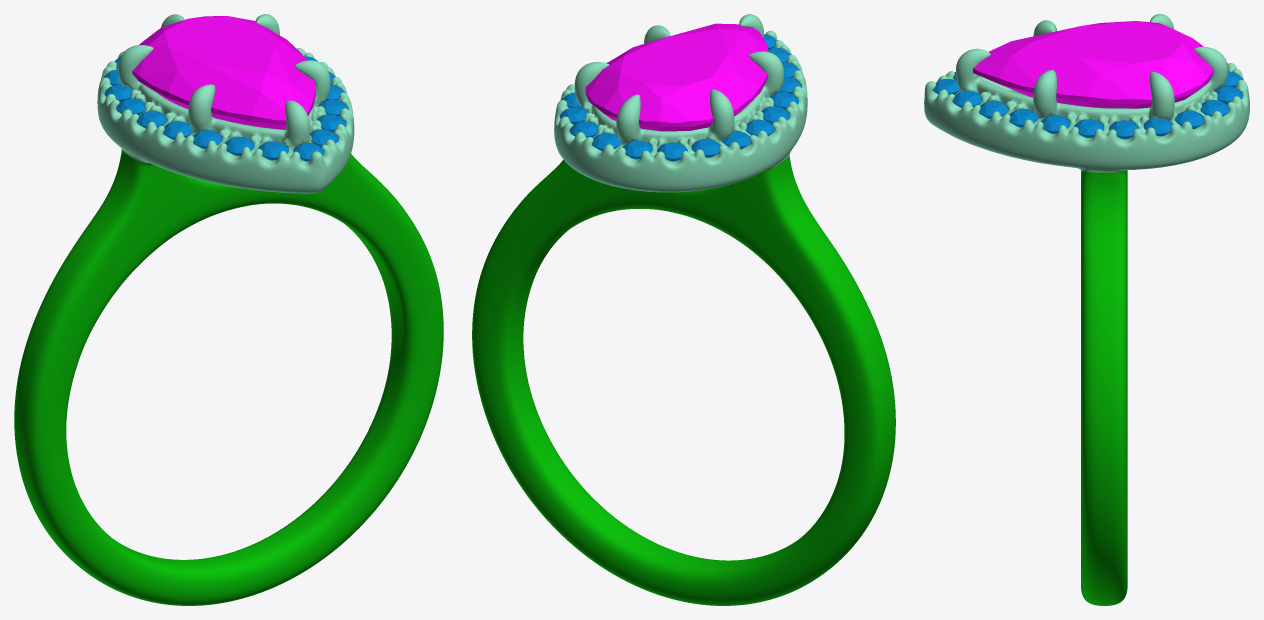
File: BE1D583_PE_200ct_RENDER.glb
3 views of the same model, side by side, from view 1: azimuth 30°, elevation 25°; view 2: azimuth 150°, elevation 25°; view 3: azimuth 270°, elevation 25° (orthographic).
Parts seen in each view (by area): view 1: Metal 01, Metal 02, CS_Diamond_Pear; view 2: Metal 01, Metal 02, CS_Diamond_Pear; view 3: Metal 02, Metal 01, CS_Diamond_Pear.
Boxes of the visible parts, x1,y1,x2,y2 form: Metal 01: [14, 128, 443, 605]; Metal 02: [97, 14, 354, 193]; CS_Diamond_Pear: [132, 16, 315, 129]; Metal 01: [472, 155, 895, 605]; Metal 02: [554, 14, 807, 192]; CS_Diamond_Pear: [585, 23, 768, 131]; Metal 02: [924, 14, 1249, 172]; Metal 01: [1081, 170, 1127, 605]; CS_Diamond_Pear: [973, 21, 1213, 108].
Size of the model in its own units: 20.39 by 25.63 by 13.96.
